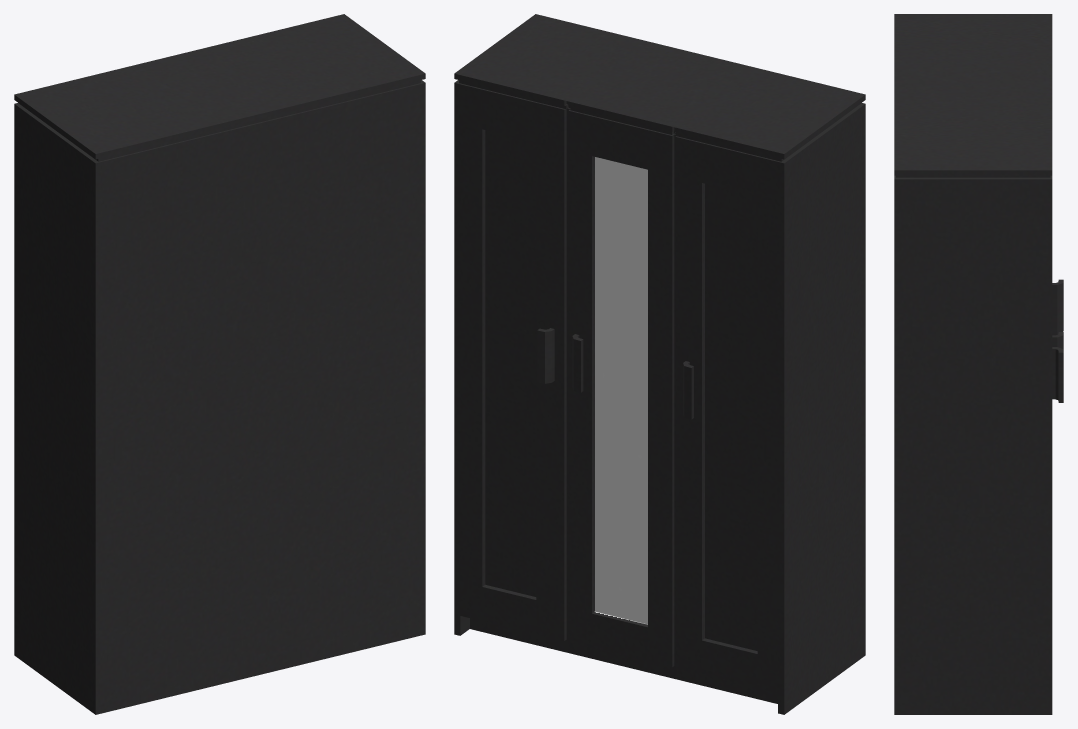
File: BRIM_Closet.obj
3 views of the same model, side by side, from view 1: azimuth 30°, elevation 25°; view 2: azimuth 150°, elevation 25°; view 3: azimuth 270°, elevation 25° (orthographic). The views are drawn at different scales.
Parts seen in each view (by area): view 1: pCube6; view 2: pCube6; view 3: pCube6.
Part boxes in pixels (left/top/right/bottom): pCube6: left=14, top=14, right=425, bottom=714; pCube6: left=454, top=14, right=865, bottom=714; pCube6: left=894, top=14, right=1063, bottom=714.
Size of the model in its own units: 11.7 by 19 by 5.35.
Materials: 1 (1 with a texture image).
